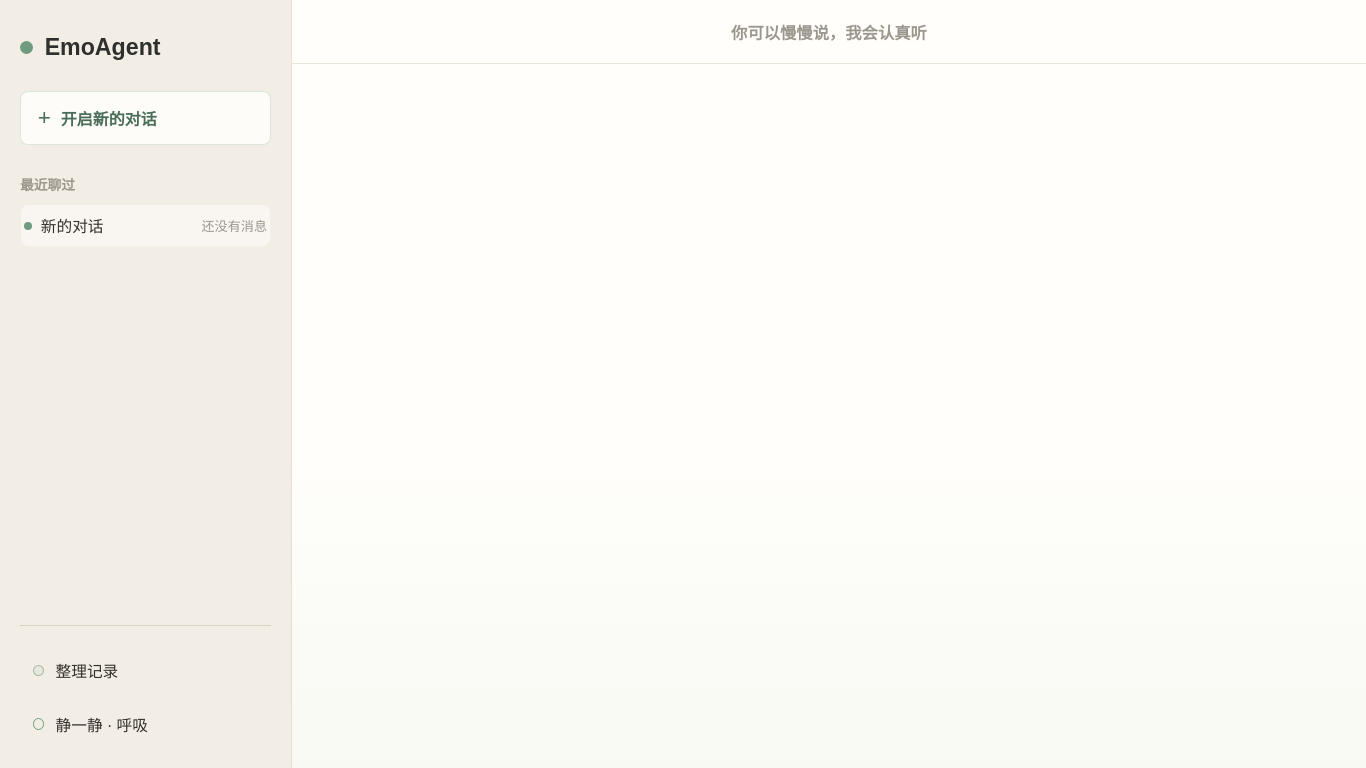
Scenario: student screenshot-style information architecture › opens breathing as a separate main view instead of layering it over chat
The image size is (1366, 768).
Click the button "静一静 · 呼吸" at {"x": 146, "y": 724}, box [20,702,271,746]
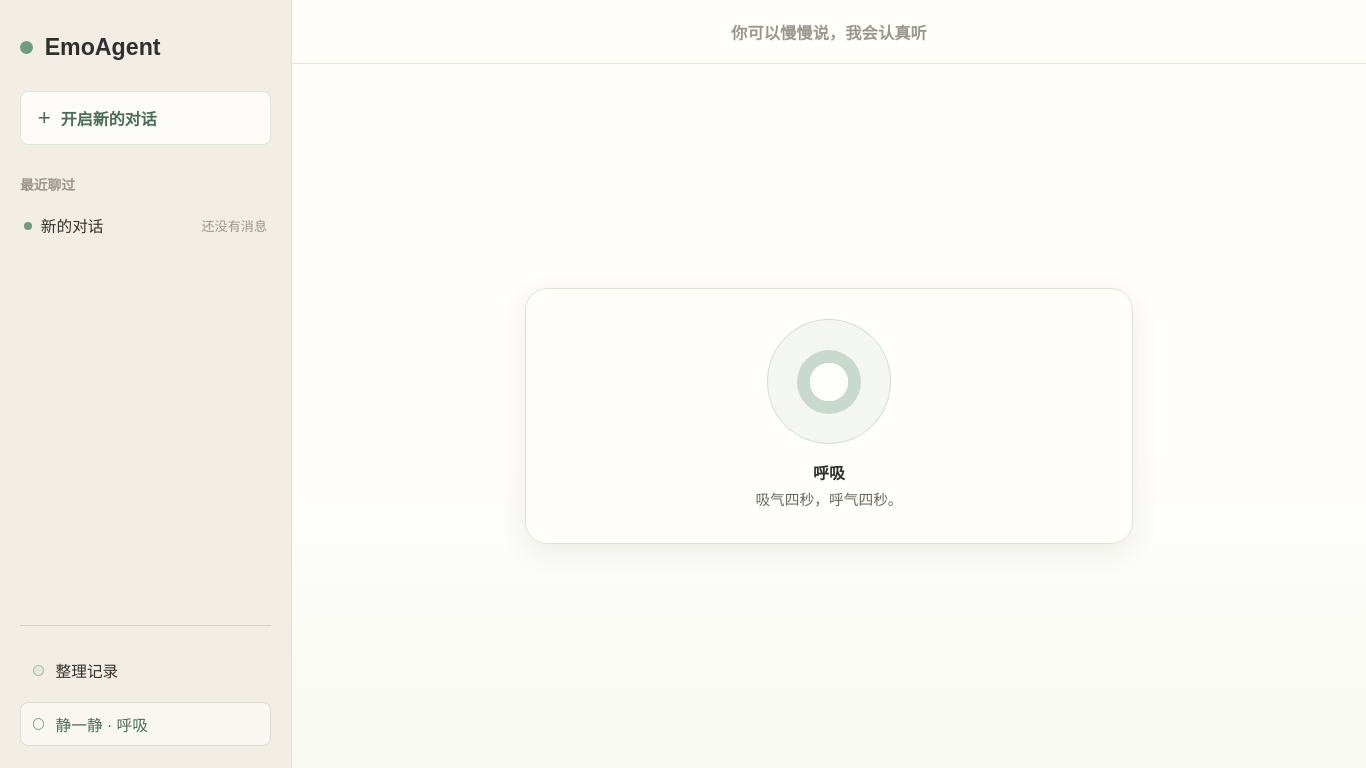
Result: the text "吸气四秒，呼气四秒。" is shown once at [755,489,903,512]
